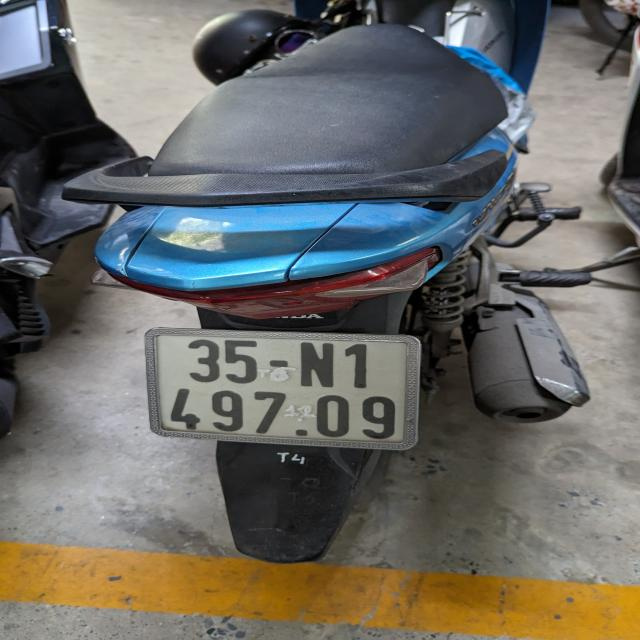License: (144, 326, 421, 451)
